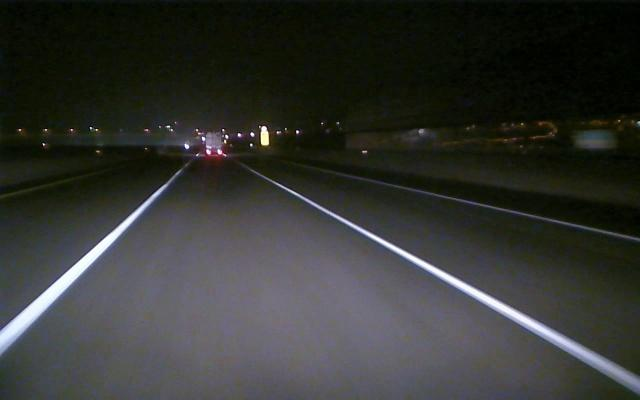lane: (256, 174, 638, 388), (3, 186, 165, 353), (354, 175, 640, 242), (0, 167, 114, 201)
